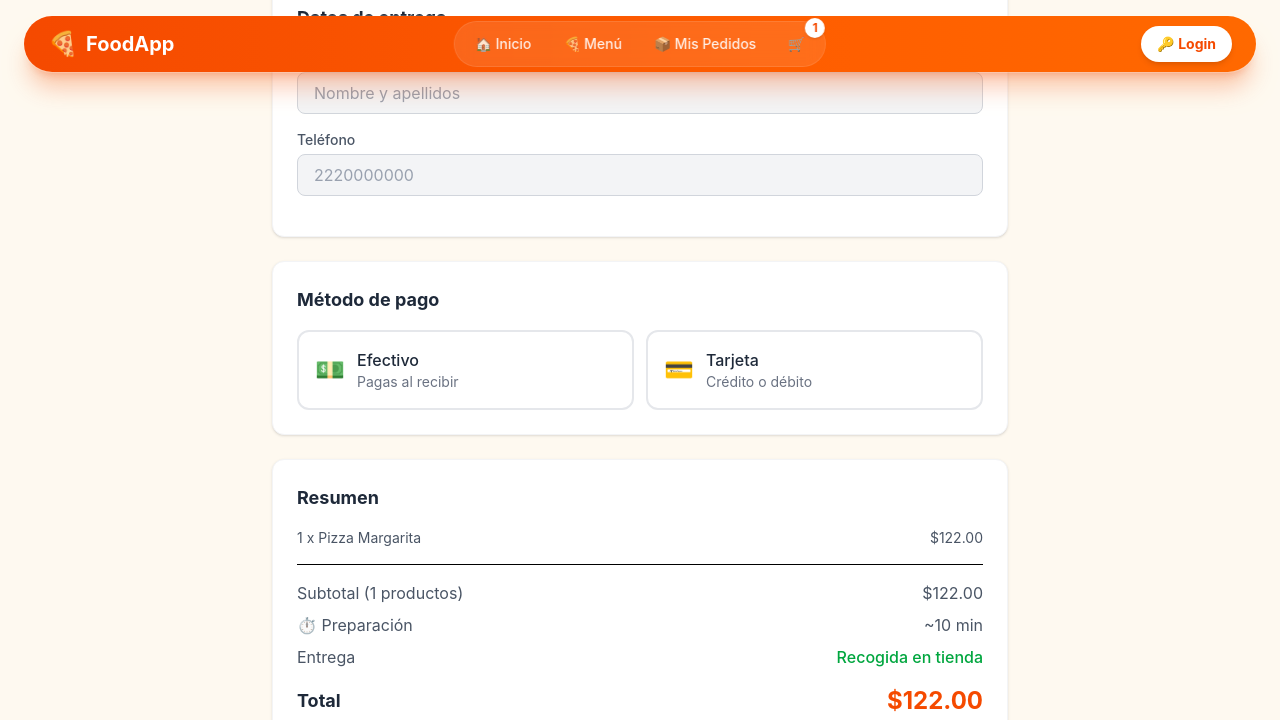
CheckoutPage - selector de método de pago › los campos de tarjeta desaparecen si cambias a Efectivo
(page scrolled)
Step 1. Click the text "Tarjeta" → (732, 360), box [706, 350, 759, 370]
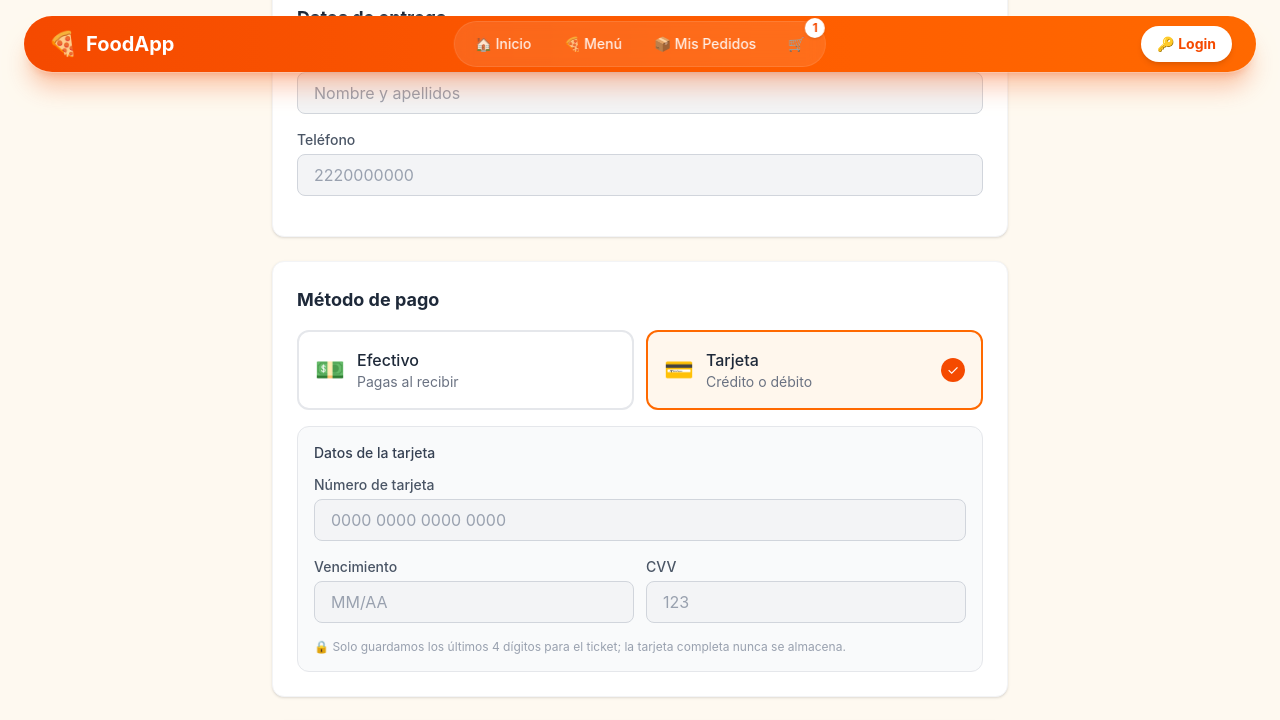
Check: the text "Número de tarjeta" is shown, box [314, 476, 435, 493]
Step 2. Click the text "Efectivo" → (388, 360), box [357, 350, 419, 370]
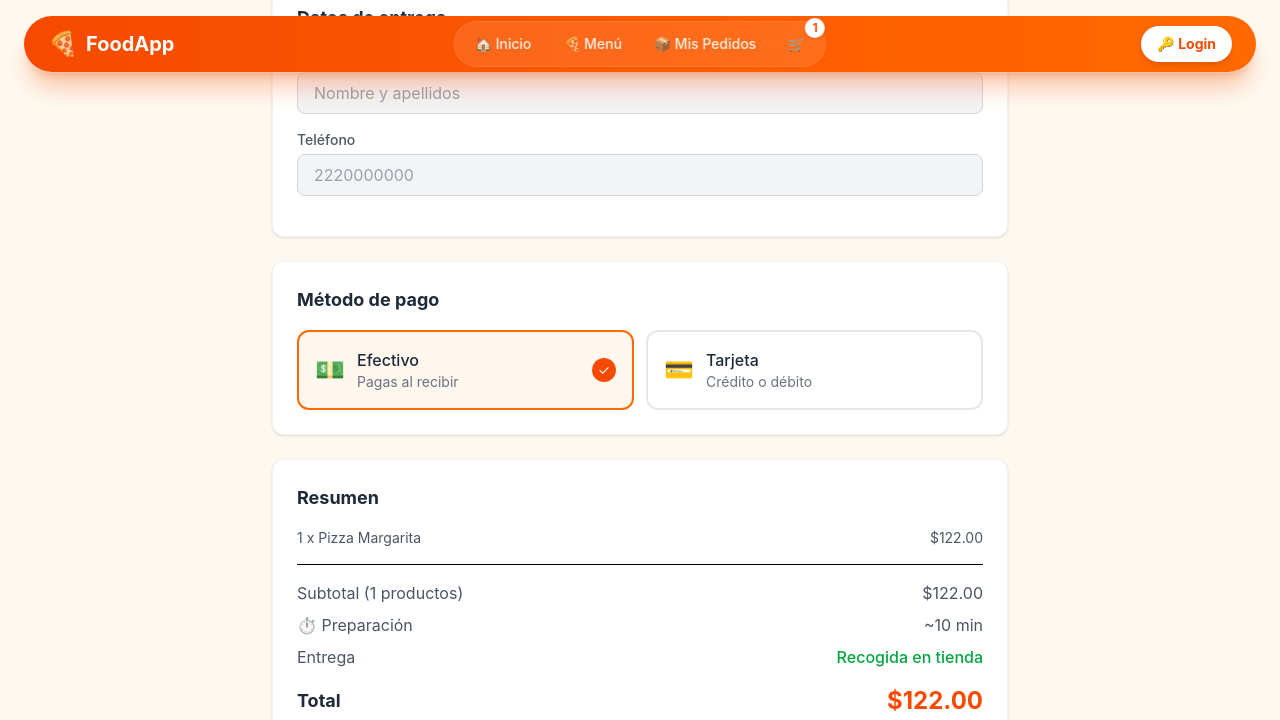
Check: the text "Número de tarjeta" is gone
